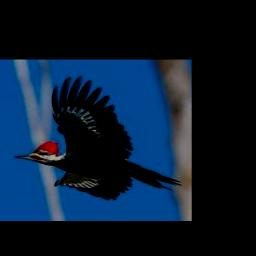Woodpecker: (15, 75, 182, 200)
